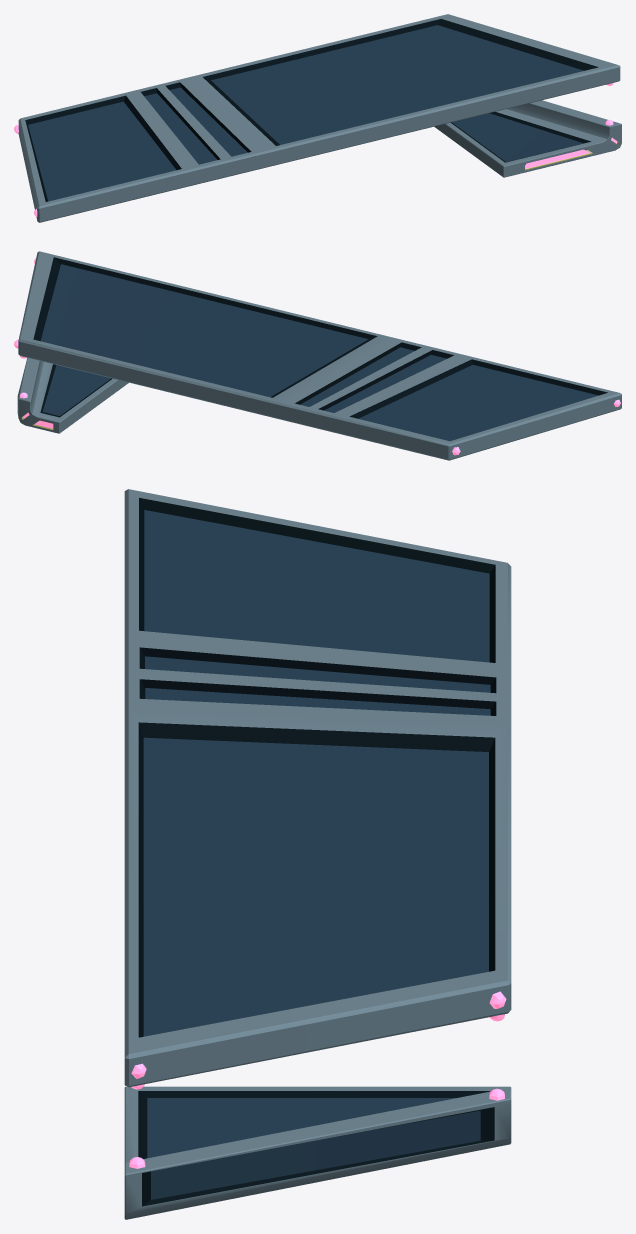
The model's file is museum_bench.fbx.
3 views of the same model, one above another, from view 1: azimuth 30°, elevation 25°; view 2: azimuth 150°, elevation 25°; view 3: azimuth 270°, elevation 25° (orthographic). The views are drawn at different scales.
Visible parts, largest first — view 1: mesh_bench_03; view 2: mesh_bench_03; view 3: mesh_bench_03.
Part boxes in pixels (x1=…): mesh_bench_03: x1=14, y1=14, x2=621, y2=222; mesh_bench_03: x1=14, y1=251, x2=621, y2=460; mesh_bench_03: x1=124, y1=489, x2=511, y2=1219.
Bounding box in the file's own units: 409 × 56.2 × 117.
